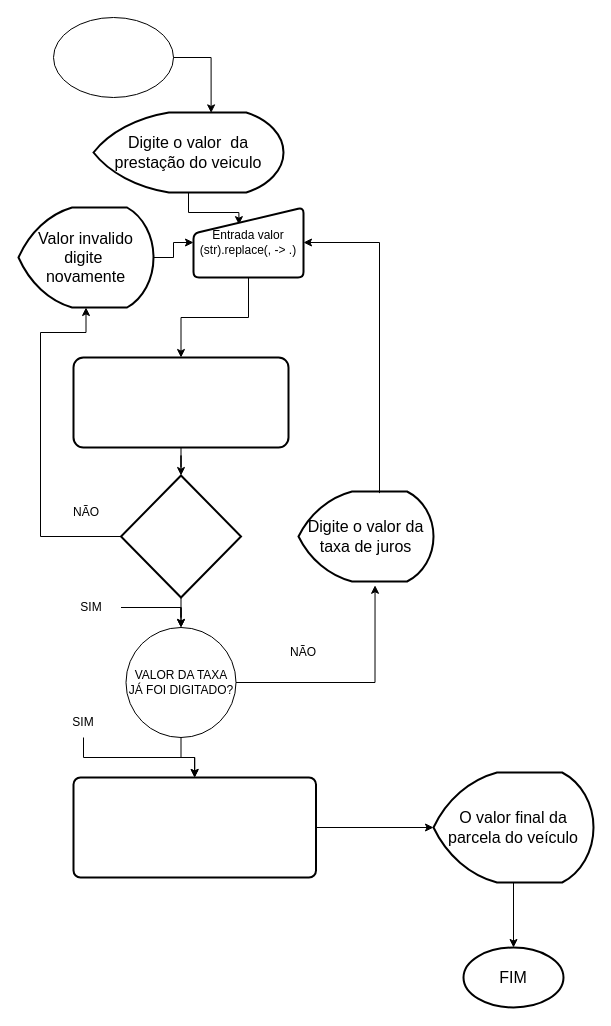
The diagram is 611 pixels wide and 1026 high, and some of its shapes have lost their labels. The centre of each missing label's shape, as x and y in pixels:
"I NICIO" belongs at (113,57).
"TOTAL <- VALOR + (VALOR *(TAXA)/100)" belongs at (194,827).
"VALOR É MAIOR QUE ZERO?" belongs at (181,536).
"Verificação valor > 0" belongs at (180,402).
